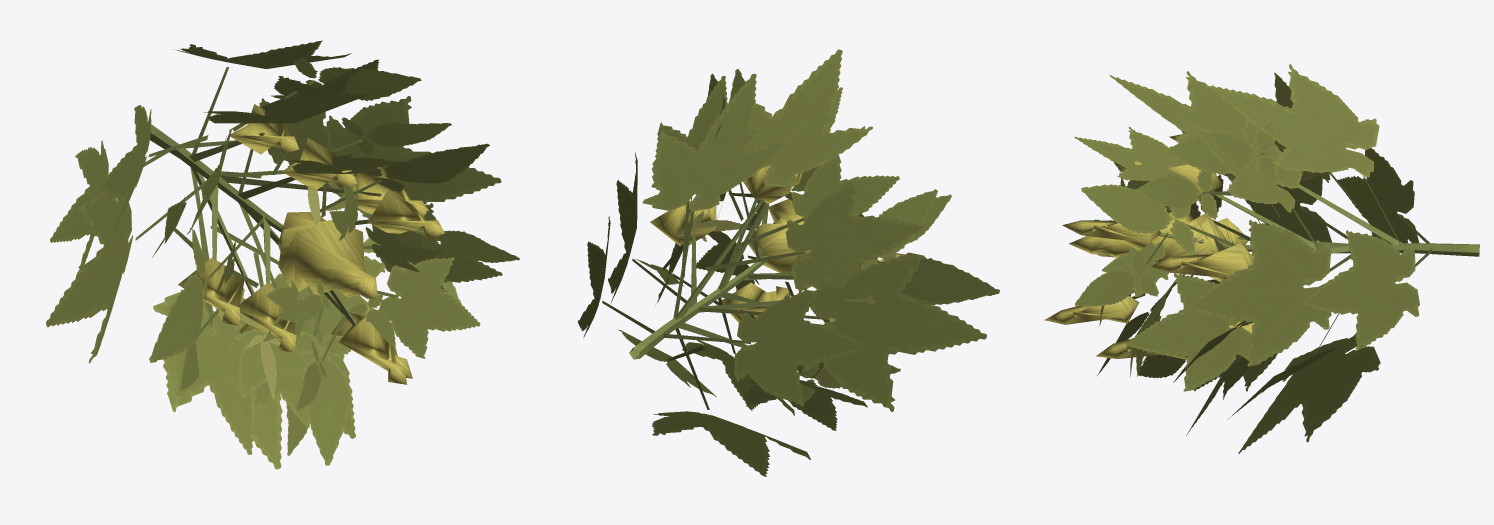
File: p_gold_afghan_flowering_c1_cards.obj
3 renders of one model, left to right at view 1: azimuth 30°, elevation 25°; view 2: azimuth 150°, elevation 25°; view 3: azimuth 270°, elevation 25°, orthographic. The views are drawn at different scales.
Size of the model in its own units: 1.42 by 1.36 by 1.24.
1 material, 1 textured.
